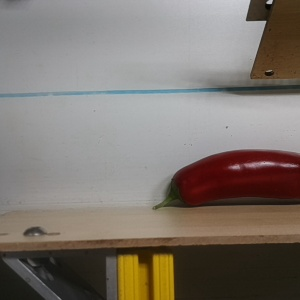Cut Point: (163, 171, 199, 207)
